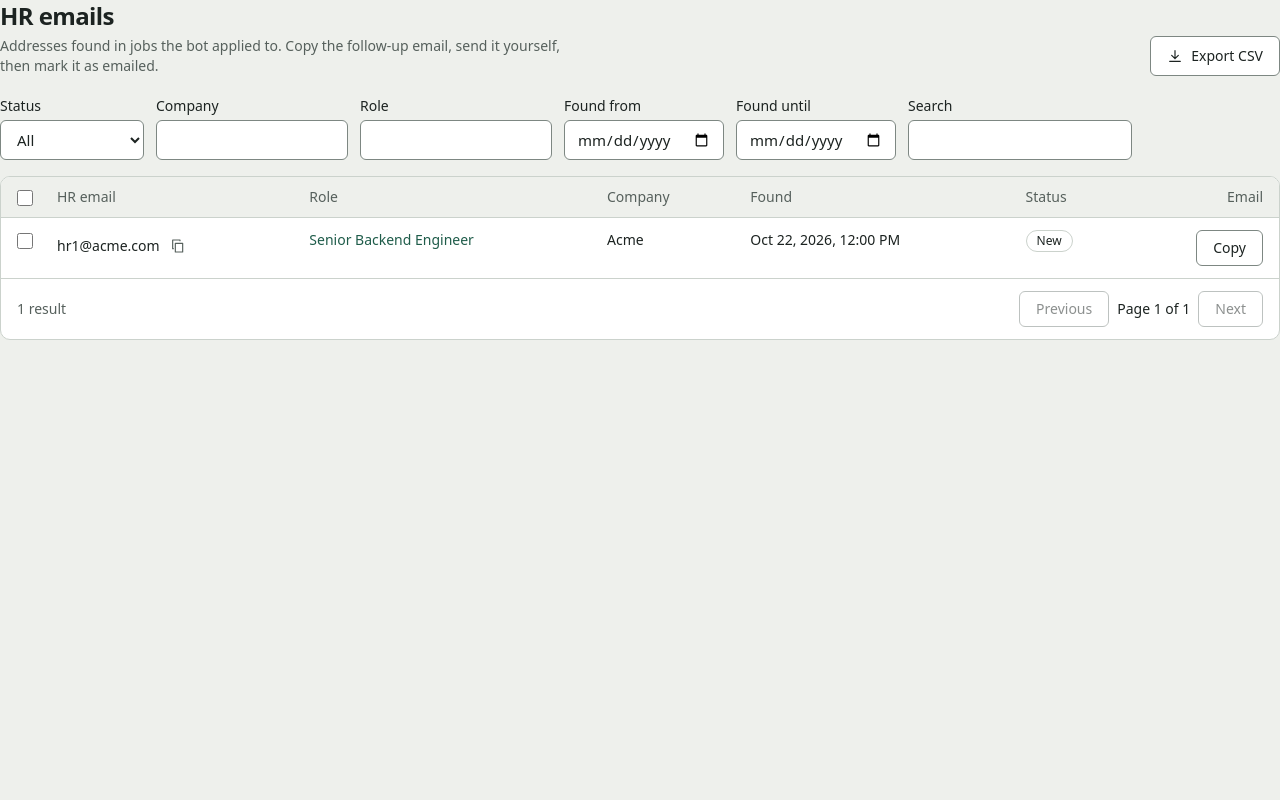
Test case: confirm yes marks emailed and refreshes list
The image size is (1280, 800).
Click the button with aria-label "Copy email to hr1@acme.com".
click(1230, 248)  # box [1196, 230, 1263, 266]
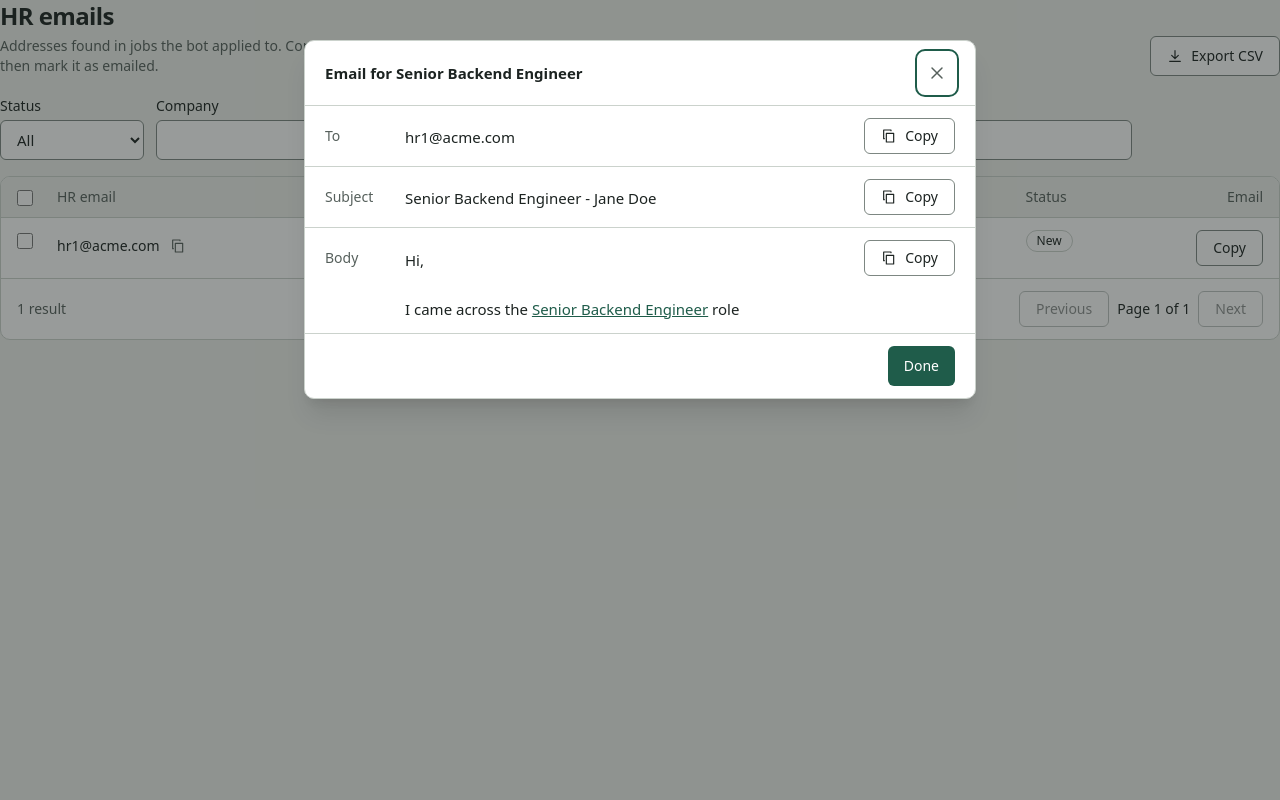
Click the button named "Close".
click(937, 73)  # box [919, 53, 955, 93]
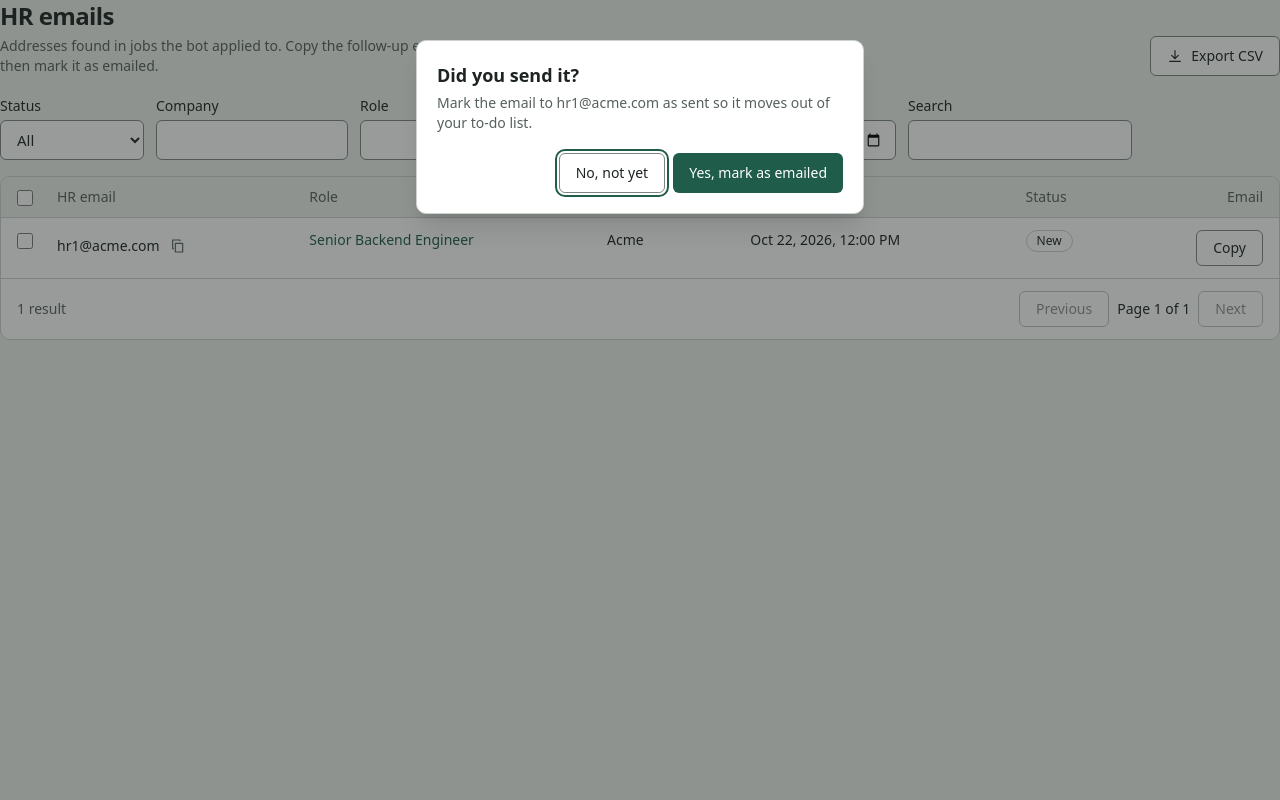
Click the button "Yes, mark as emailed".
click(758, 173)  # box [673, 153, 843, 193]
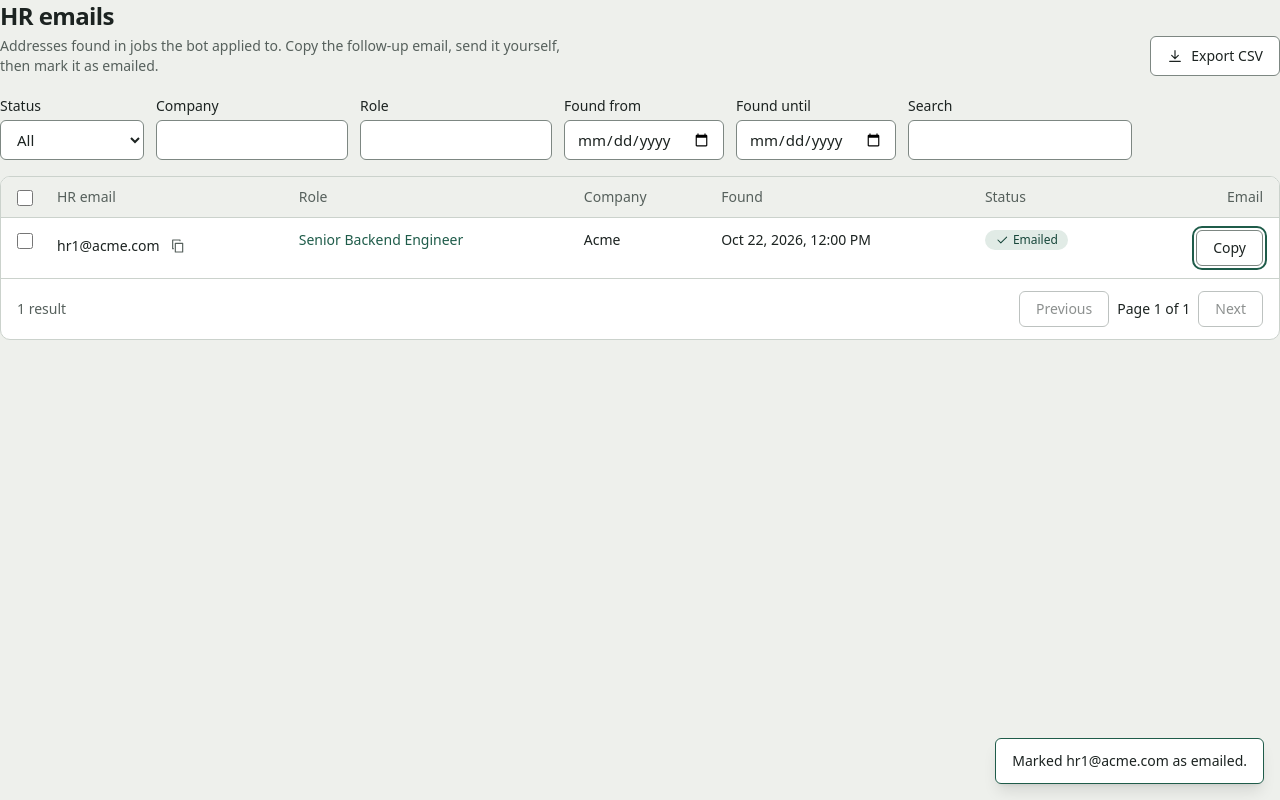
Expected: the text "Emailed" is shown, [985, 230, 1068, 250]
